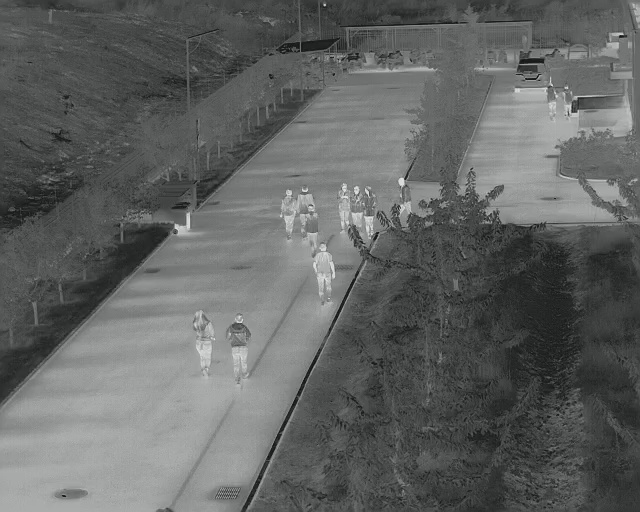person: (225, 312, 253, 388), (191, 309, 217, 379), (312, 241, 337, 307), (279, 188, 298, 242), (361, 185, 378, 238), (303, 203, 321, 248), (295, 183, 314, 224), (336, 182, 350, 235), (544, 82, 559, 123), (349, 186, 364, 227), (396, 176, 413, 212), (561, 84, 576, 121)
vehicle: (512, 57, 550, 94)
